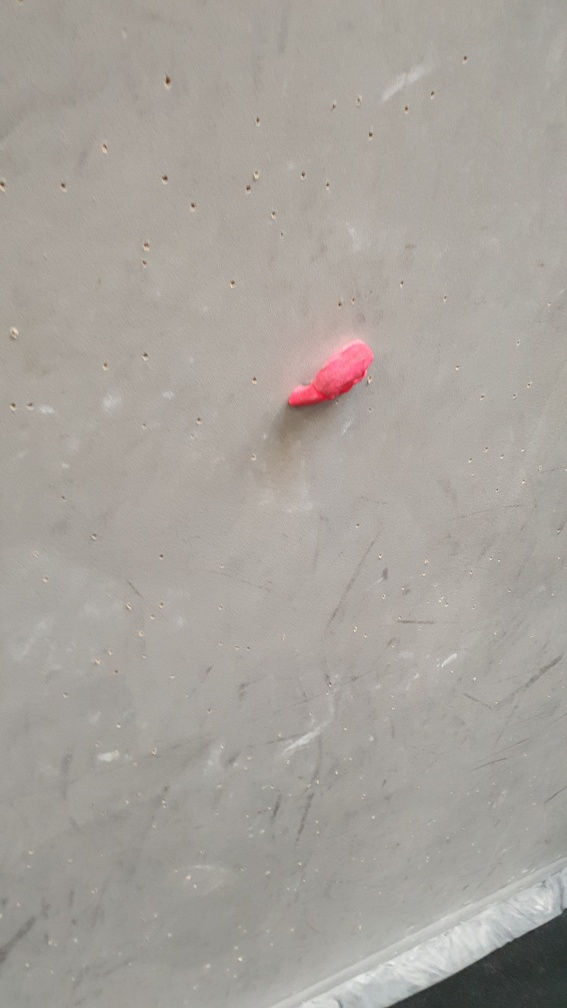Jug: (284, 336, 372, 414)
